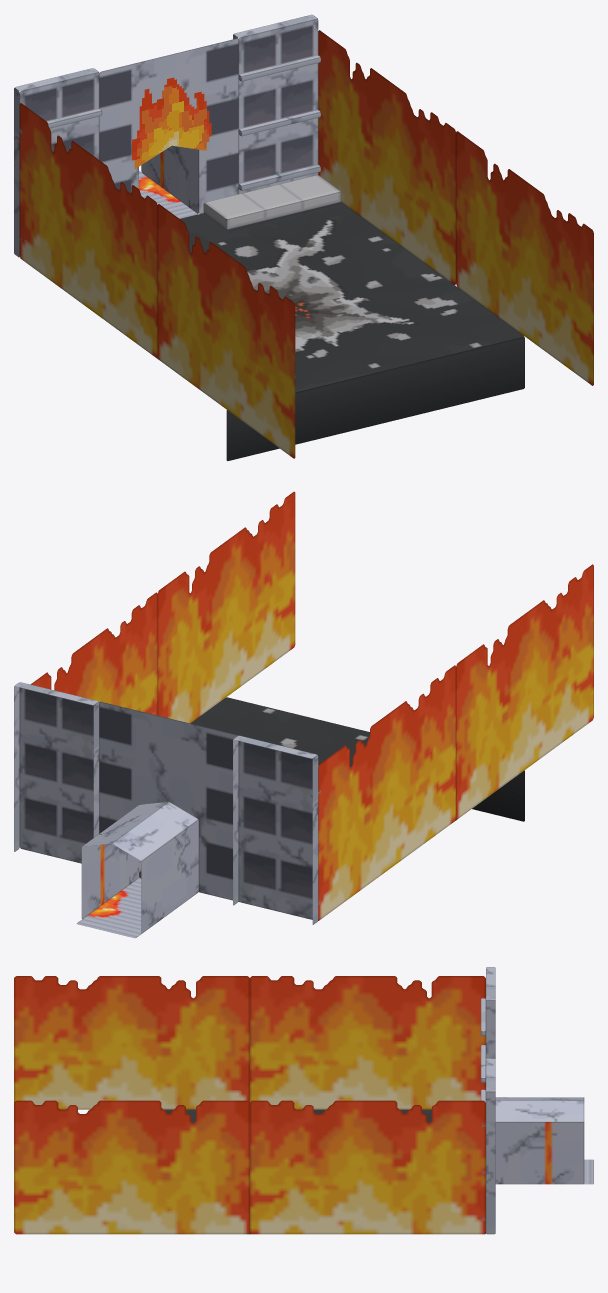
File: boss1.fbx
The picture shows the model from 3 angles, top to bottom: view 1: azimuth 30°, elevation 25°; view 2: azimuth 150°, elevation 25°; view 3: azimuth 270°, elevation 25°; orthographic projection. The views are drawn at different scales.
Parts seen in each view (by area): view 1: floor, cube, cube_3, cube_2, cube_1, backbuilding, building, building_2, fiugh, walks, builing-ledges, tunnelfloor; view 2: backbuilding, cube, cube_3, cube_2, building_2, building, cube_1, floor, tunnelfloor; view 3: cube_1, cube_2, cube, cube_3, backbuilding, building, building_2.
Part boxes in pixels (x1,y1,x2,y2): floor: (20, 202, 524, 460); cube: (157, 204, 295, 458); cube_3: (19, 103, 157, 357); cube_2: (456, 131, 593, 385); cube_1: (318, 30, 455, 284); backbuilding: (99, 38, 238, 213); building: (233, 14, 318, 193); building_2: (14, 68, 99, 257); fiugh: (132, 77, 211, 168); walks: (203, 175, 341, 229); builing-ledges: (238, 55, 320, 190); tunnelfloor: (139, 171, 197, 218); backbuilding: (81, 701, 237, 933); cube: (456, 564, 593, 819); cube_3: (318, 665, 455, 920); cube_2: (157, 491, 295, 723); building_2: (233, 735, 318, 924); building: (14, 682, 99, 863); cube_1: (30, 592, 157, 715); floor: (139, 697, 524, 920); tunnelfloor: (76, 878, 141, 938); cube_1: (250, 1100, 485, 1234); cube_2: (14, 1100, 249, 1234); cube: (14, 976, 249, 1109); cube_3: (250, 976, 485, 1109); backbuilding: (495, 1097, 584, 1184); building: (486, 1058, 495, 1234); building_2: (486, 967, 495, 1058).
Size of the model in its own units: 375 by 262 by 738.
Materials: 5 (5 with a texture image).
